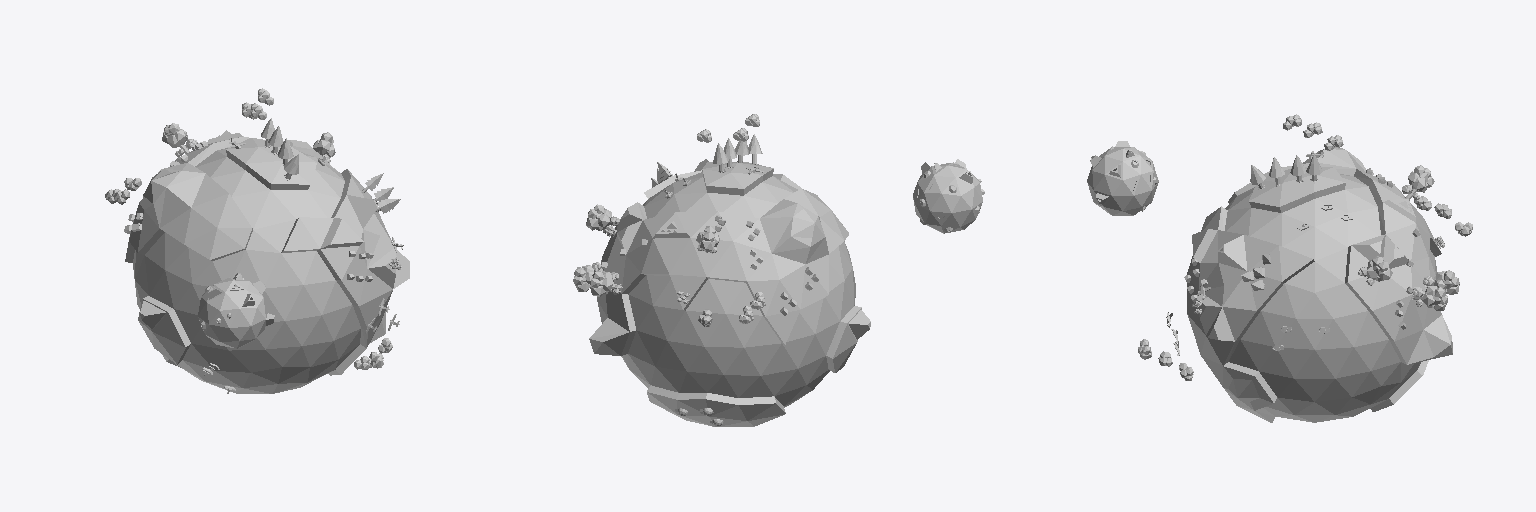
Rendered from uploads_files_4039251_free+world.obj.
The picture shows the model from 3 angles: view 1: azimuth 30°, elevation 25°; view 2: azimuth 150°, elevation 25°; view 3: azimuth 270°, elevation 25°; orthographic projection.
Visible parts, largest first — view 1: Icosphere.001, Cube.003, Cube.014_Cube.011; view 2: Icosphere.001, Cube.003, Cube.013_Cube.011, Cube.011; view 3: Icosphere.001, Cube.003, Cube.014_Cube.011, Cube.012, Cube.013_Cube.011, Cube.011.
Part boxes in pixels (bbox=[...]): Icosphere.001: bbox=[125, 130, 409, 393]; Cube.003: bbox=[198, 173, 383, 348]; Cube.014_Cube.011: bbox=[162, 123, 197, 156]; Icosphere.001: bbox=[589, 159, 870, 426]; Cube.003: bbox=[657, 159, 984, 233]; Cube.013_Cube.011: bbox=[586, 204, 619, 236]; Cube.011: bbox=[589, 270, 622, 296]; Icosphere.001: bbox=[1187, 147, 1452, 422]; Cube.003: bbox=[1087, 141, 1270, 264]; Cube.014_Cube.011: bbox=[1402, 165, 1434, 200]; Cube.012: bbox=[1412, 286, 1447, 310]; Cube.013_Cube.011: bbox=[1358, 256, 1392, 285]; Cube.011: bbox=[1423, 270, 1459, 294].
Bounding box in the file's own units: 16.9 × 17.64 × 21.24.